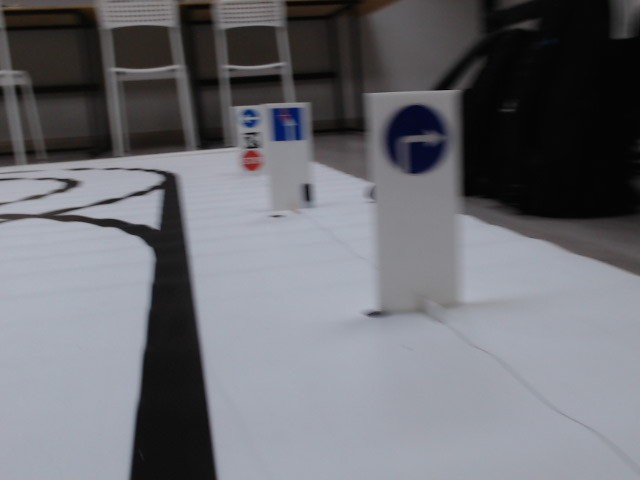Right: (382, 104, 448, 173)
Stop: (240, 150, 264, 171)
priority_movement: (271, 105, 306, 143)
